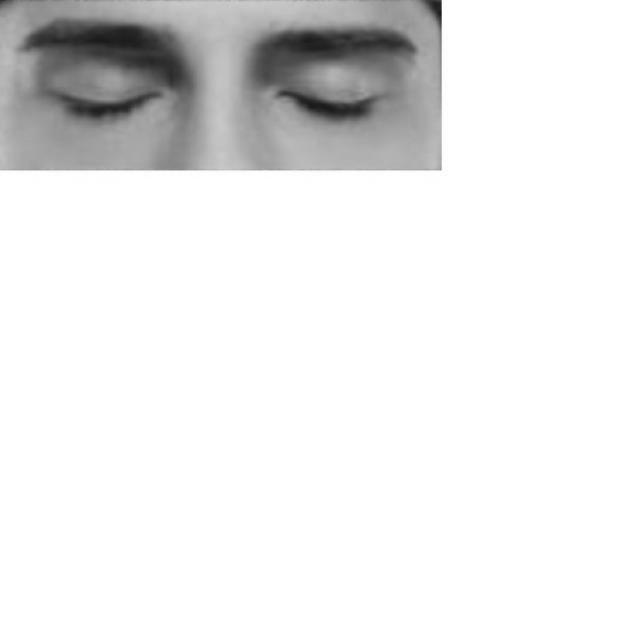real: (30, 45, 414, 131)
